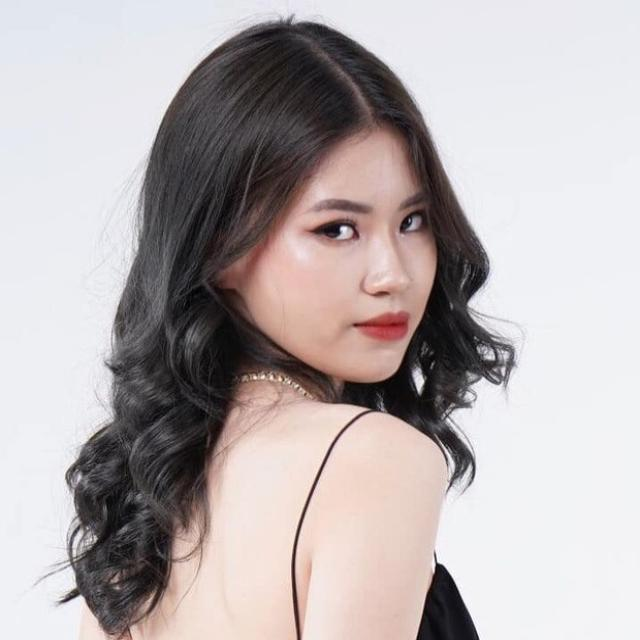Nonhelmet: (165, 41, 450, 396)
